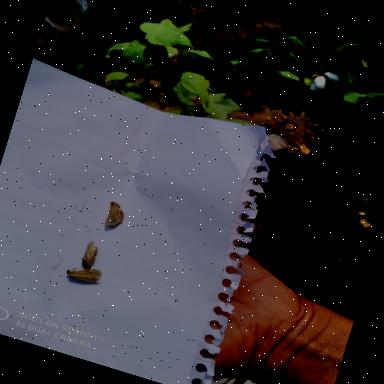abw: (63, 258, 106, 290), (102, 199, 128, 232), (76, 237, 101, 271)
